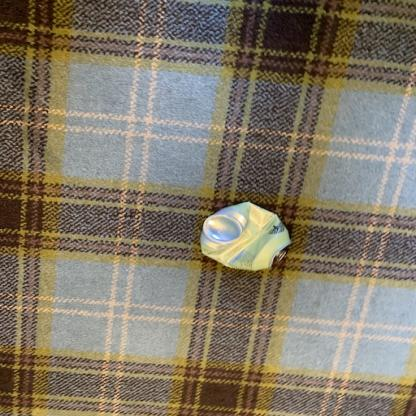trash: (205, 205, 294, 274)
